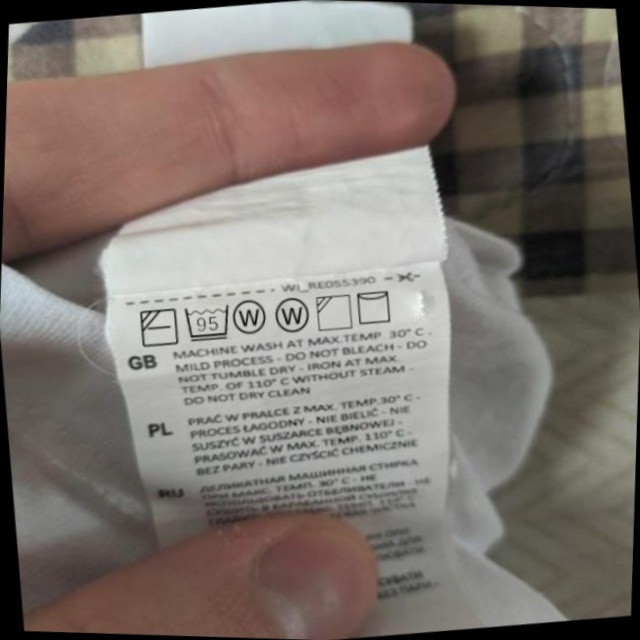95C: (181, 299, 235, 345)
dry_flat_in_shade: (136, 303, 181, 351)
line_dry: (352, 284, 397, 329)
shade_dry: (312, 290, 356, 335)
wet_clean: (271, 293, 314, 338), (230, 293, 272, 338)
